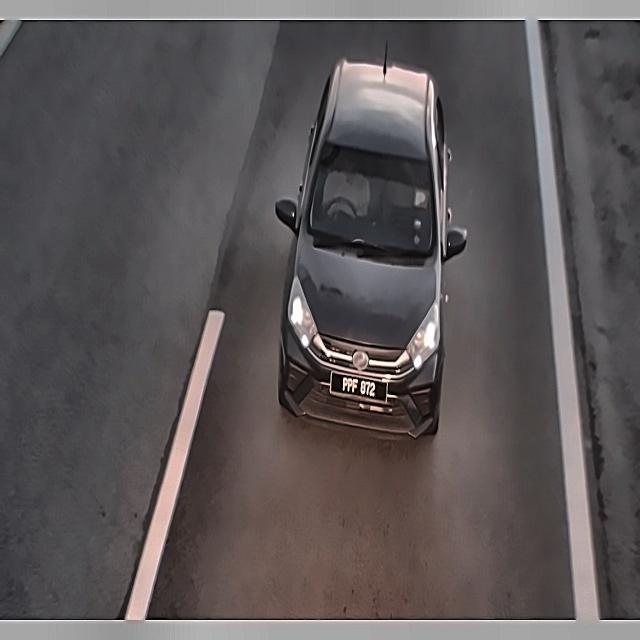car: (331, 369, 391, 410)
